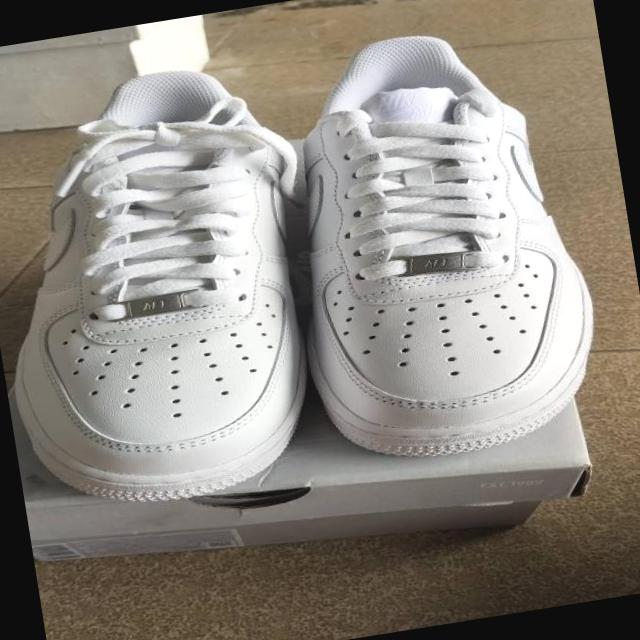nike_original_airforce: (256, 9, 620, 478), (0, 48, 354, 526)
